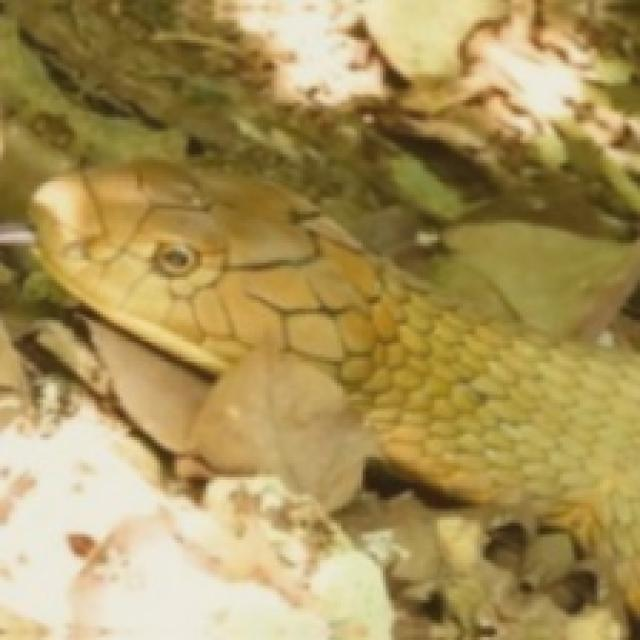king cobra: (31, 163, 526, 509)
